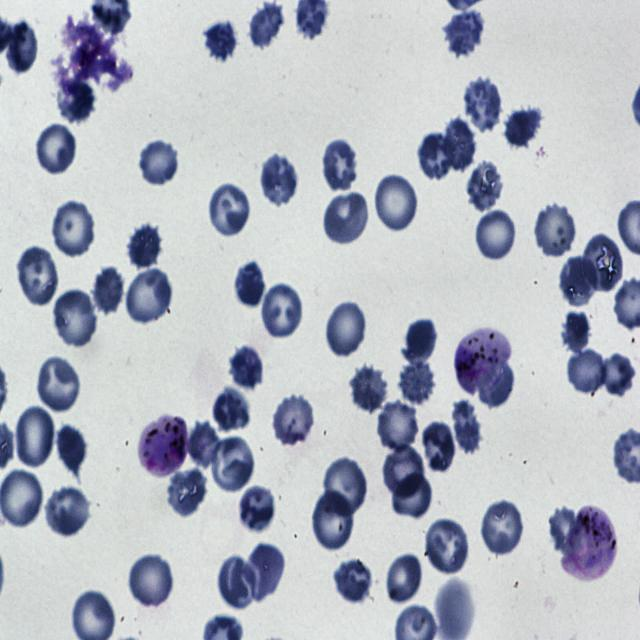difficult: (138, 413, 188, 476)
red blood cell: (319, 451, 367, 516), (49, 198, 96, 259), (52, 287, 98, 349), (15, 245, 60, 308), (126, 267, 174, 325), (14, 404, 56, 470), (374, 172, 419, 233), (311, 491, 356, 552), (127, 552, 175, 609), (532, 200, 579, 258), (36, 356, 82, 415), (581, 232, 624, 295), (424, 517, 471, 574), (259, 282, 305, 339), (323, 191, 371, 245), (207, 181, 252, 238), (211, 436, 256, 493), (480, 498, 524, 556), (270, 392, 316, 447), (326, 299, 368, 359), (34, 122, 80, 176), (376, 399, 420, 454), (45, 486, 92, 535), (258, 154, 299, 210), (475, 208, 518, 261), (235, 481, 277, 534), (392, 469, 434, 522), (247, 540, 284, 600), (320, 138, 359, 194), (218, 555, 257, 611), (559, 254, 598, 310), (465, 159, 505, 213), (54, 76, 98, 125), (442, 6, 485, 56), (476, 353, 515, 408), (382, 445, 423, 497), (464, 75, 499, 134), (164, 468, 206, 517), (442, 115, 478, 172), (449, 398, 485, 455), (384, 553, 424, 604), (348, 364, 388, 415), (138, 138, 179, 187), (569, 348, 610, 396), (420, 421, 457, 474), (502, 104, 544, 150), (211, 387, 252, 434), (4, 19, 38, 75), (232, 259, 268, 311), (247, 0, 286, 48), (228, 343, 266, 392), (334, 558, 374, 604), (186, 418, 221, 470), (125, 221, 162, 270), (416, 133, 456, 178), (398, 358, 436, 405), (92, 266, 127, 316), (54, 426, 90, 472), (601, 351, 634, 399), (203, 21, 243, 60), (546, 506, 579, 553), (404, 317, 438, 362), (561, 311, 591, 353)
trophozoite: (562, 504, 618, 582), (454, 328, 512, 398)
